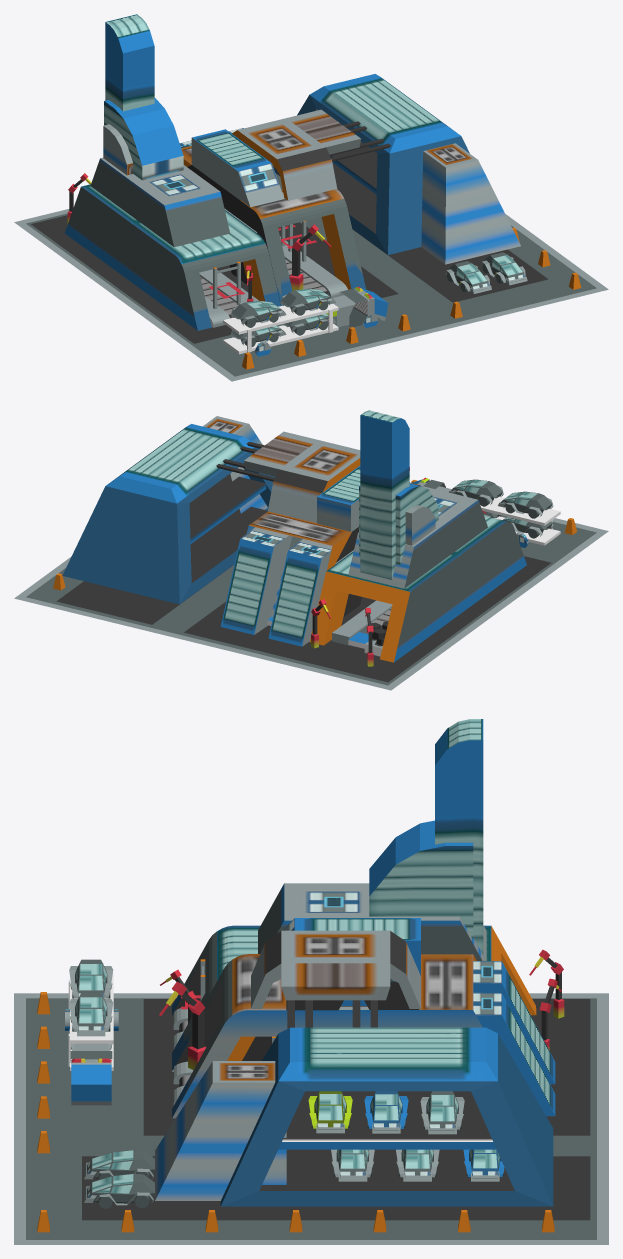
Rendered from automotive_LV3.fbx.
3 renders of one model, top to bottom at view 1: azimuth 30°, elevation 25°; view 2: azimuth 150°, elevation 25°; view 3: azimuth 270°, elevation 25°, orthographic. The views are drawn at different scales.
Visible parts, largest first — view 1: auto level 3; view 2: auto level 3; view 3: auto level 3.
Boxes of the visible parts, x1,y1,x2,y2 form: auto level 3: (14,14,608,381); auto level 3: (14,410,608,690); auto level 3: (14,719,608,1244).
Size of the model in its own units: 160 by 91.3 by 160.
